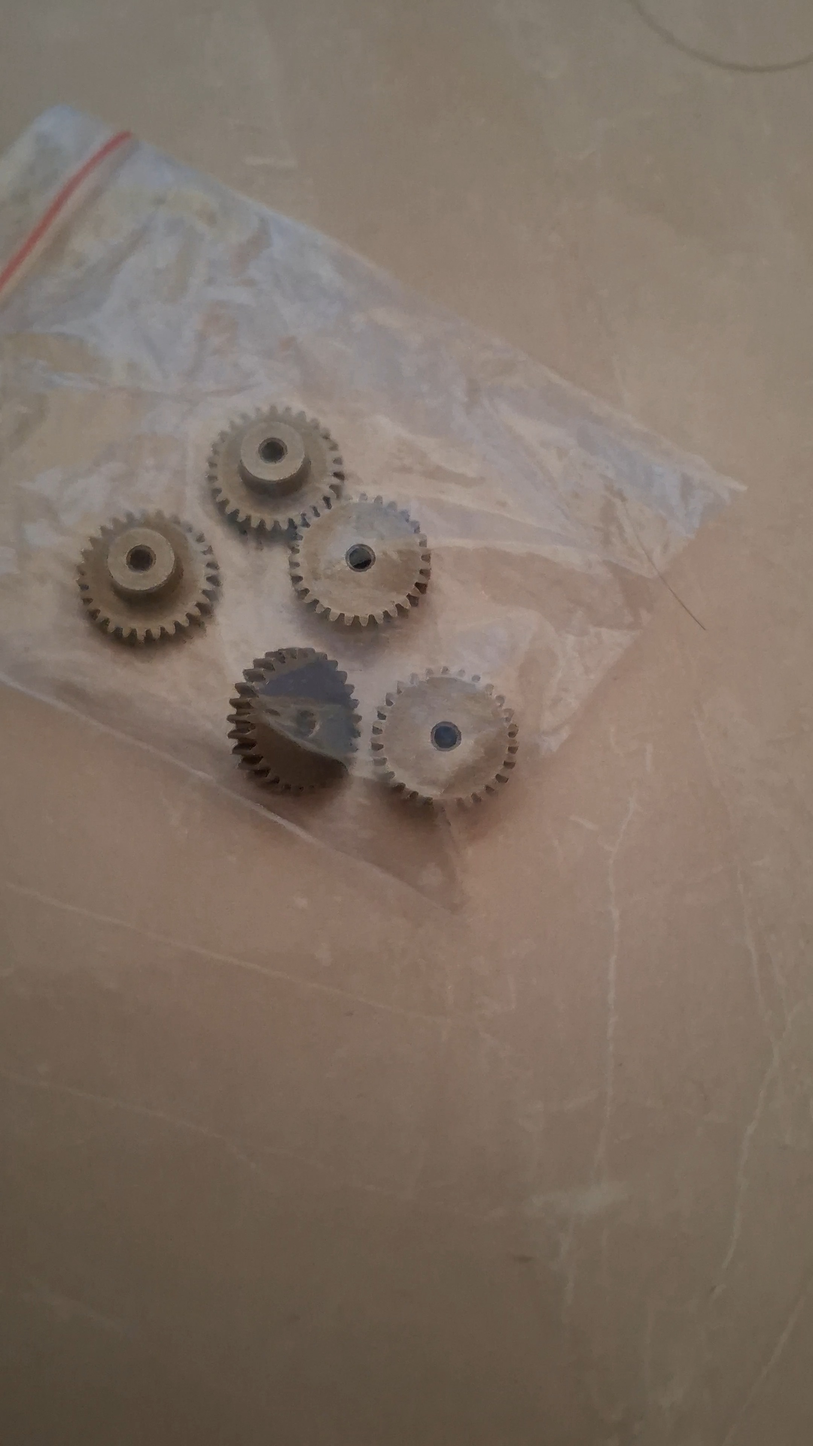spur gear: (371, 668, 518, 804), (228, 647, 359, 793), (77, 511, 219, 642), (289, 494, 430, 625), (209, 407, 344, 532)
